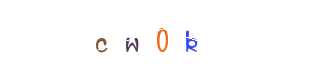0: (122, 0, 202, 80)
C: (78, 0, 158, 80)
K: (150, 0, 230, 80)
W: (115, 0, 195, 80)
